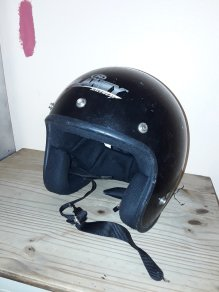with_helmet: (44, 64, 190, 228)
